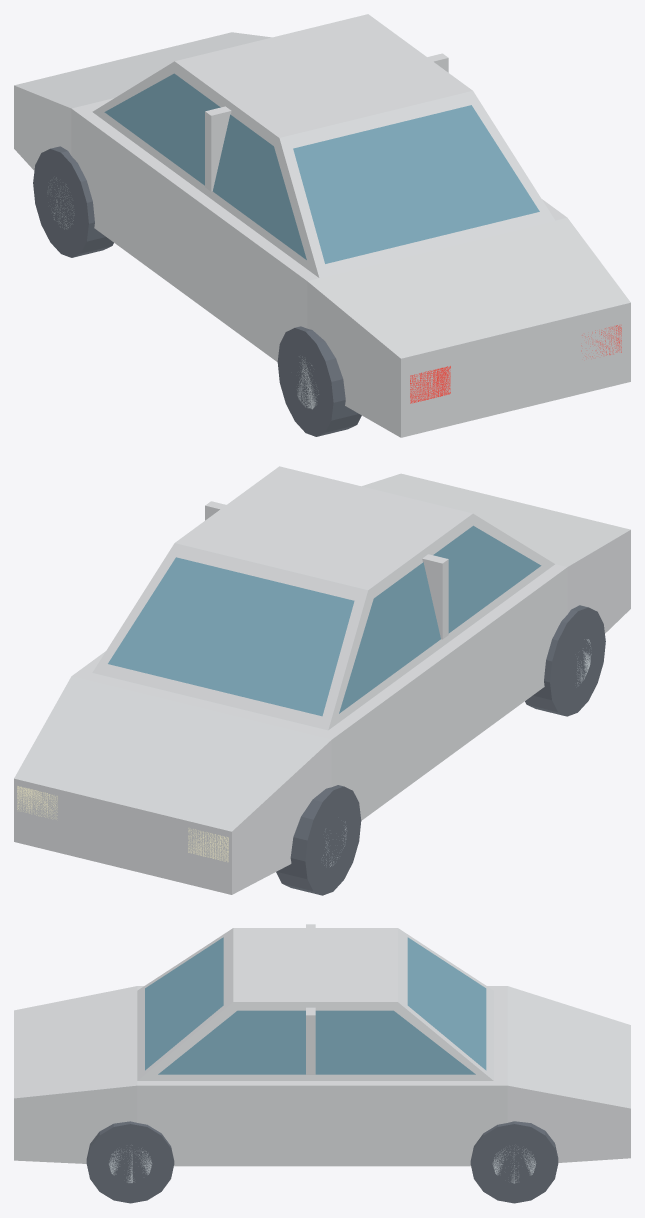
Rendered from sedan.glb.
3 views of the same model, one above another, from view 1: azimuth 30°, elevation 25°; view 2: azimuth 150°, elevation 25°; view 3: azimuth 270°, elevation 25° (orthographic). The views are drawn at different scales.
Visible parts, largest first — view 1: body, cabin, rear_glass, window_left, wheel_rear_left, wheel_front_left, pillar_left, taillamp_left; view 2: body, cabin, windshield, window_left, wheel_front_left, wheel_rear_left, pillar_left, headlamp_left, headlamp_right; view 3: body, cabin, window_right, windshield, rear_glass, wheel_front_right, wheel_rear_right, pillar_right, hub_rear_right, hub_front_right.
Boxes of the visible parts, box(x1,y1,x2,y2) form: body: box(14, 32, 630, 437); cabin: box(92, 14, 554, 277); rear_glass: box(293, 105, 539, 263); window_left: box(104, 73, 306, 259); wheel_rear_left: box(277, 326, 361, 436); wheel_front_left: box(33, 146, 113, 257); pillar_left: box(205, 106, 231, 191); taillamp_left: box(410, 366, 450, 403); body: box(14, 473, 630, 894); cabin: box(92, 466, 554, 730); windshield: box(108, 557, 354, 716); window_left: box(339, 525, 541, 713); wheel_front_left: box(276, 785, 361, 895); wheel_rear_left: box(525, 605, 605, 716); pillar_left: box(422, 554, 448, 639); headlamp_left: box(188, 828, 228, 862); headlamp_right: box(17, 786, 57, 819); body: box(14, 986, 630, 1166); cabin: box(137, 928, 493, 1080); window_right: box(158, 1010, 475, 1074); windshield: box(407, 937, 486, 1070); rear_glass: box(145, 937, 223, 1070); wheel_front_right: box(470, 1121, 558, 1203); wheel_rear_right: box(86, 1121, 174, 1203); pillar_right: box(306, 1007, 315, 1074); hub_rear_right: box(109, 1145, 152, 1182); hub_front_right: box(492, 1148, 536, 1183).
Size of the model in its own units: 1.8 by 1.5 by 4.5.
